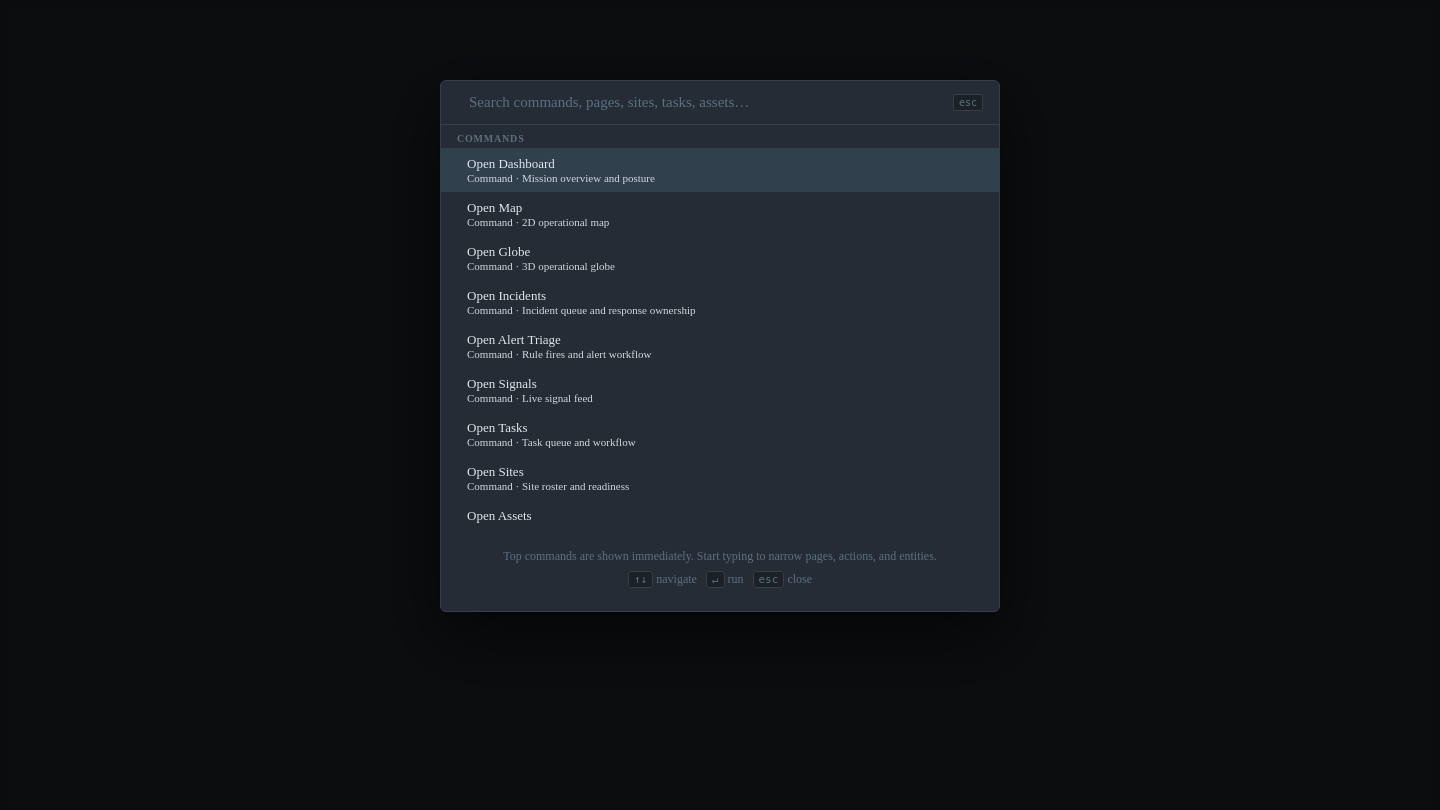
Scenario: GlobalSearch › omits commander-only commands for operators
Type "planning" into the field with placeholder "Search commands, pages, sites, tasks, assets…".
click(705, 102); type("planning")  # box [467,93,943,112]
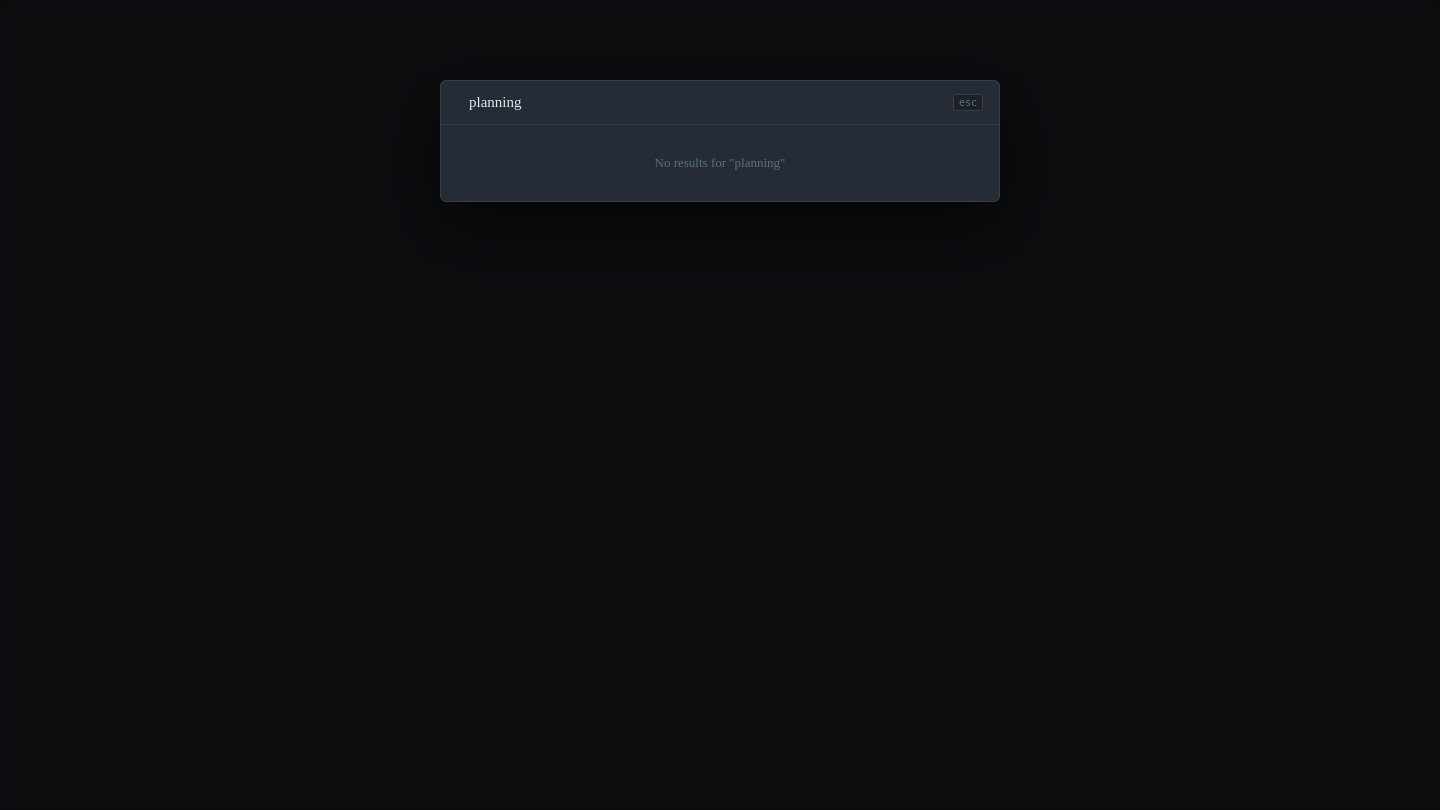
expect the list item "No results for \"planning\"" is shown: met, box [655,155,786,170]
